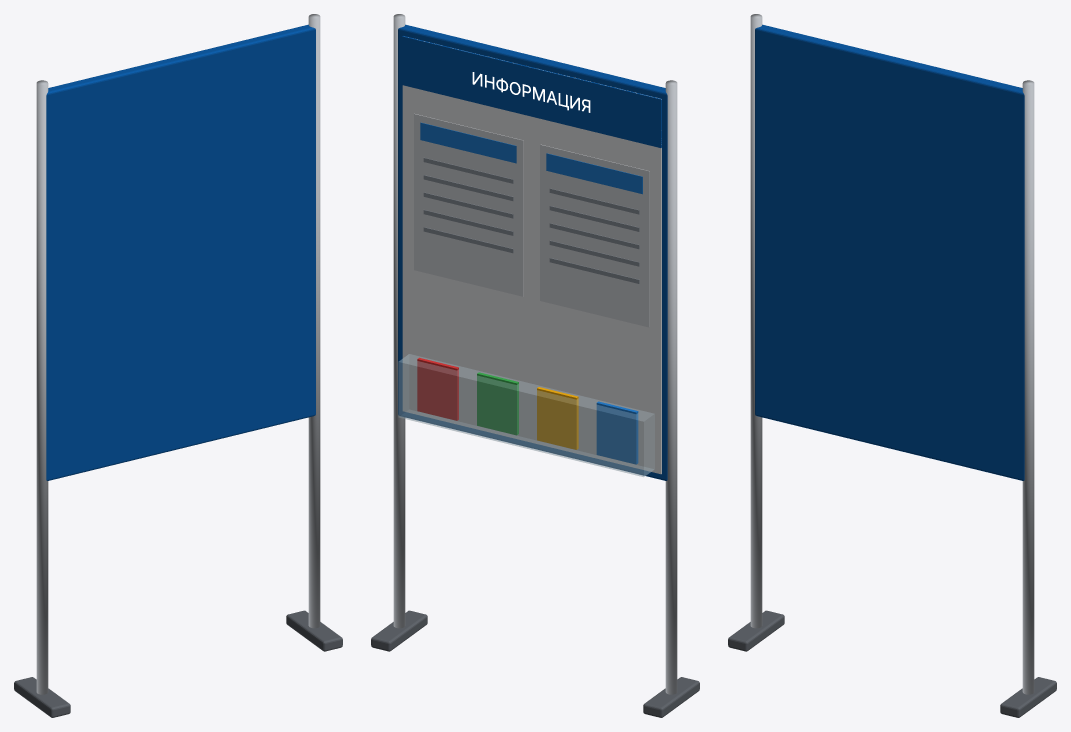
File: info-stand.glb
3 views of the same model, side by side, from view 1: azimuth 30°, elevation 25°; view 2: azimuth 150°, elevation 25°; view 3: azimuth 330°, elevation 25° (orthographic).
Visible parts, largest first — view 1: body; view 2: body; view 3: body.
Boxes of the visible parts, x1,y1,x2,y2 form: body: [14, 14, 342, 717]; body: [371, 14, 699, 717]; body: [728, 14, 1056, 717].
Size of the model in its own units: 0.88 by 1.78 by 0.2.
